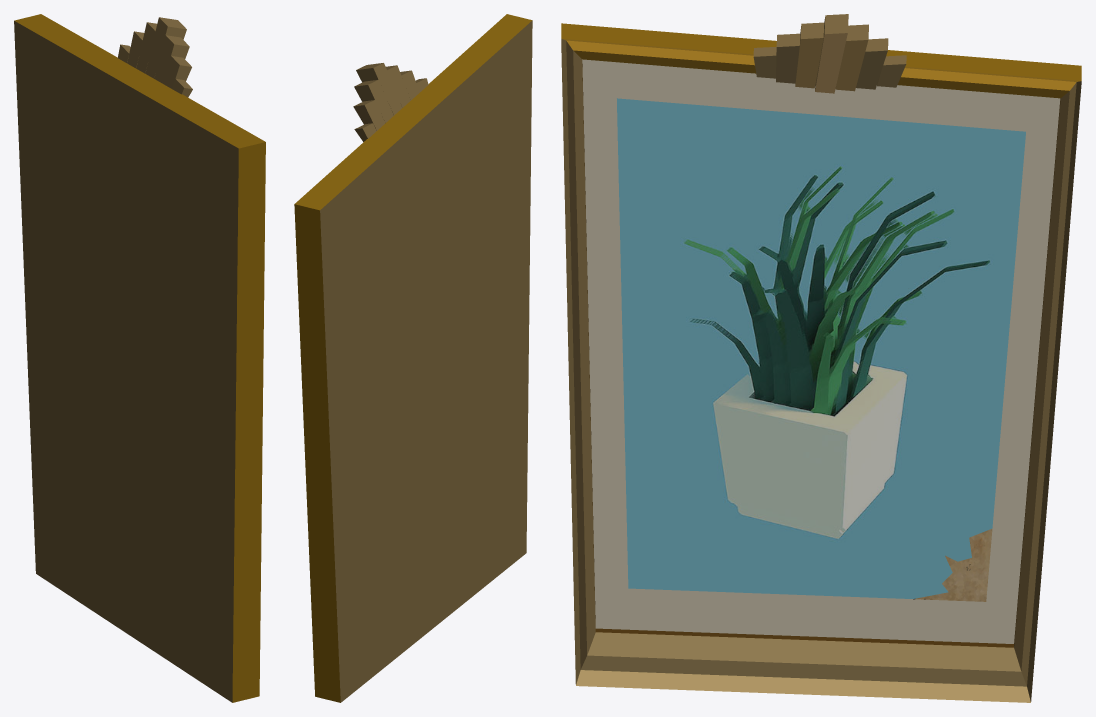
The model's file is Puzzle05_PictureMain.glb.
The picture shows the model from 3 angles, left to right: view 1: azimuth 30°, elevation 25°; view 2: azimuth 150°, elevation 25°; view 3: azimuth 270°, elevation 25°; orthographic projection. The views are drawn at different scales.
Visible parts, largest first — view 1: Puzzle05_PictureMain; view 2: Puzzle05_PictureMain; view 3: Puzzle05_PictureMain.
Part boxes in pixels (x1,y1,x2,y2): Puzzle05_PictureMain: (14,14,265,702); Puzzle05_PictureMain: (294,14,532,702); Puzzle05_PictureMain: (561,14,1081,702).
Bounding box in the file's own units: 0.2526 × 2.31 × 1.56.
Materials: 2 (2 with a texture image).
